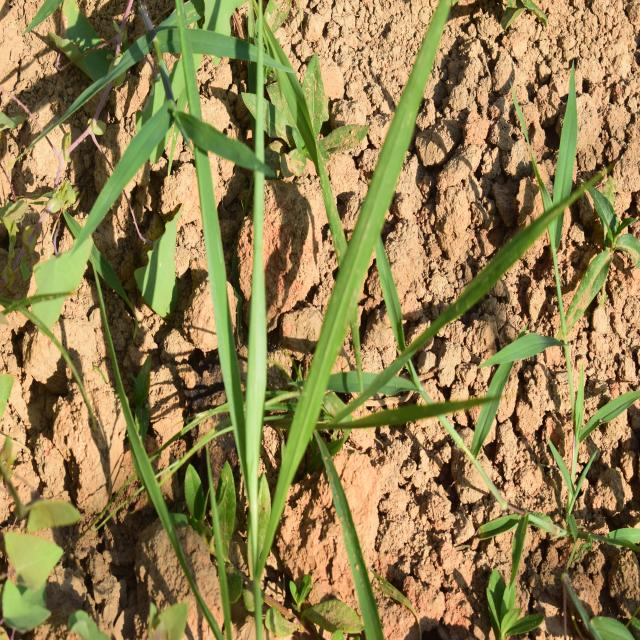green_foxtail: (175, 46, 422, 576)
